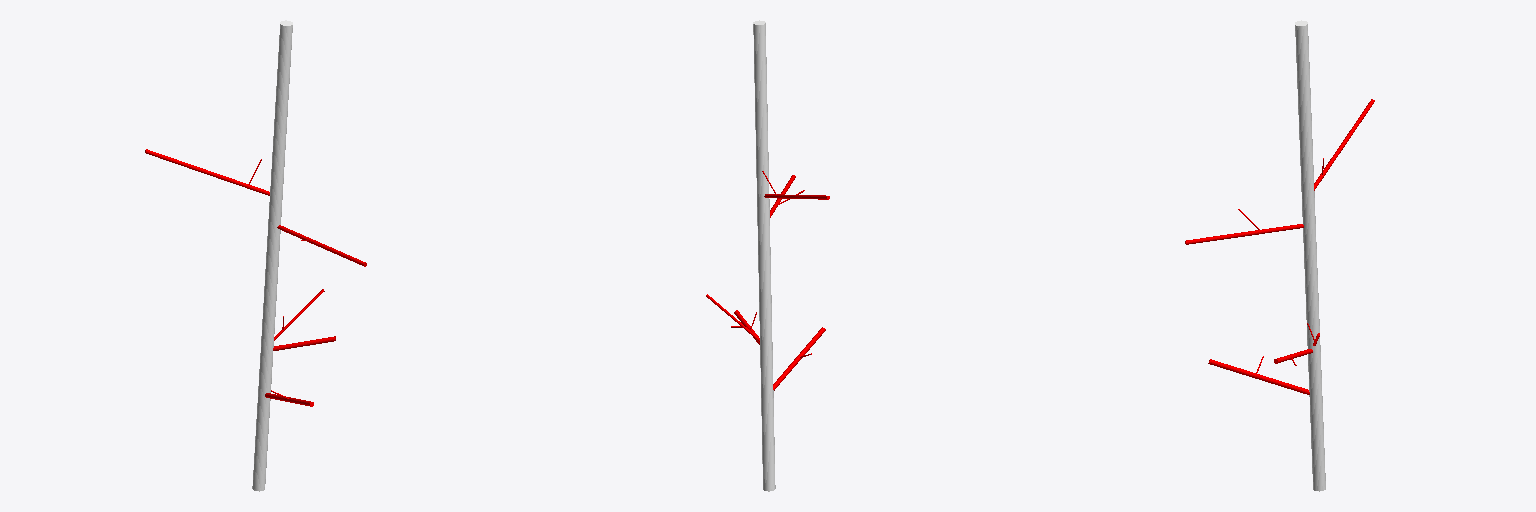
The robot description file, URDF, robot "tree_39.urdf":
<?xml version='1.0' encoding='UTF-8'?>
<robot name="tree_39.urdf">
  <link name="branch_0">
    <inertial>
      <origin xyz="0.0 0.0 0.0" rpy="0.0 -0.0 0.0"/>
      <mass value="0.1"/>
      <inertia ixx="0.001" ixy="0.0" ixz="0.0" iyy="0.001" iyz="0.0" izz="0.001"/>
    </inertial>
    <visual name="branch_0_visual">
      <geometry>
        <cylinder radius="0.10181048123434369" length="8.161811694612103"/>
      </geometry>
      <material name="branch_material"/>
      <origin xyz="0.17303586341867938 -0.14086591947236526 4.074801580111464" rpy="0.0 0.054702557082123036 -0.6832706086225947"/>
    </visual>
    <collision name="branch_0_collision">
      <geometry>
        <cylinder radius="0.10181048123434369" length="8.161811694612103"/>
      </geometry>
      <origin xyz="0.17303586341867938 -0.14086591947236526 4.074801580111464" rpy="0.0 0.054702557082123036 -0.6832706086225947"/>
    </collision>
  </link>
  <link name="branch_1">
    <inertial>
      <origin xyz="0.0 0.0 0.0" rpy="0.0 -0.0 0.0"/>
      <mass value="0.1"/>
      <inertia ixx="0.001" ixy="0.0" ixz="0.0" iyy="0.001" iyz="0.0" izz="0.001"/>
    </inertial>
    <visual name="branch_1_visual">
      <geometry>
        <cylinder radius="0.033954302815684935" length="2.215960192321416"/>
      </geometry>
      <material name="semantic_material"/>
      <origin xyz="0.0 0.0 0.0" rpy="0.0 -0.0 0.0"/>
    </visual>
    <collision name="branch_1_collision">
      <geometry>
        <cylinder radius="0.033954302815684935" length="2.215960192321416"/>
      </geometry>
      <origin xyz="0.0 0.0 0.0" rpy="0.0 -0.0 0.0"/>
    </collision>
  </link>
  <link name="branch_2">
    <inertial>
      <origin xyz="0.0 0.0 0.0" rpy="0.0 -0.0 0.0"/>
      <mass value="0.1"/>
      <inertia ixx="0.001" ixy="0.0" ixz="0.0" iyy="0.001" iyz="0.0" izz="0.001"/>
    </inertial>
    <visual name="branch_2_visual">
      <geometry>
        <cylinder radius="0.01" length="0.48393200322359187"/>
      </geometry>
      <material name="semantic_material"/>
      <origin xyz="0.0 0.0 0.0" rpy="0.0 -0.0 0.0"/>
    </visual>
    <collision name="branch_2_collision">
      <geometry>
        <cylinder radius="0.01" length="0.48393200322359187"/>
      </geometry>
      <origin xyz="0.0 0.0 0.0" rpy="0.0 -0.0 0.0"/>
    </collision>
  </link>
  <link name="branch_3">
    <inertial>
      <origin xyz="0.0 0.0 0.0" rpy="0.0 -0.0 0.0"/>
      <mass value="0.1"/>
      <inertia ixx="0.001" ixy="0.0" ixz="0.0" iyy="0.001" iyz="0.0" izz="0.001"/>
    </inertial>
    <visual name="branch_3_visual">
      <geometry>
        <cylinder radius="0.022712729342302947" length="1.2801849019979785"/>
      </geometry>
      <material name="semantic_material"/>
      <origin xyz="0.0 0.0 0.0" rpy="0.0 -0.0 0.0"/>
    </visual>
    <collision name="branch_3_collision">
      <geometry>
        <cylinder radius="0.022712729342302947" length="1.2801849019979785"/>
      </geometry>
      <origin xyz="0.0 0.0 0.0" rpy="0.0 -0.0 0.0"/>
    </collision>
  </link>
  <link name="branch_4">
    <inertial>
      <origin xyz="0.0 0.0 0.0" rpy="0.0 -0.0 0.0"/>
      <mass value="0.1"/>
      <inertia ixx="0.001" ixy="0.0" ixz="0.0" iyy="0.001" iyz="0.0" izz="0.001"/>
    </inertial>
    <visual name="branch_4_visual">
      <geometry>
        <cylinder radius="0.01" length="0.34515774997408455"/>
      </geometry>
      <material name="semantic_material"/>
      <origin xyz="0.0 0.0 0.0" rpy="0.0 -0.0 0.0"/>
    </visual>
    <collision name="branch_4_collision">
      <geometry>
        <cylinder radius="0.01" length="0.34515774997408455"/>
      </geometry>
      <origin xyz="0.0 0.0 0.0" rpy="0.0 -0.0 0.0"/>
    </collision>
  </link>
  <link name="branch_5">
    <inertial>
      <origin xyz="0.0 0.0 0.0" rpy="0.0 -0.0 0.0"/>
      <mass value="0.1"/>
      <inertia ixx="0.001" ixy="0.0" ixz="0.0" iyy="0.001" iyz="0.0" izz="0.001"/>
    </inertial>
    <visual name="branch_5_visual">
      <geometry>
        <cylinder radius="0.040252455766289615" length="1.7467516169432158"/>
      </geometry>
      <material name="semantic_material"/>
      <origin xyz="0.0 0.0 0.0" rpy="0.0 -0.0 0.0"/>
    </visual>
    <collision name="branch_5_collision">
      <geometry>
        <cylinder radius="0.040252455766289615" length="1.7467516169432158"/>
      </geometry>
      <origin xyz="0.0 0.0 0.0" rpy="0.0 -0.0 0.0"/>
    </collision>
  </link>
  <link name="branch_6">
    <inertial>
      <origin xyz="0.0 0.0 0.0" rpy="0.0 -0.0 0.0"/>
      <mass value="0.1"/>
      <inertia ixx="0.001" ixy="0.0" ixz="0.0" iyy="0.001" iyz="0.0" izz="0.001"/>
    </inertial>
    <visual name="branch_6_visual">
      <geometry>
        <cylinder radius="0.01123706866519181" length="0.37566203975257795"/>
      </geometry>
      <material name="semantic_material"/>
      <origin xyz="0.0 0.0 0.0" rpy="0.0 -0.0 0.0"/>
    </visual>
    <collision name="branch_6_collision">
      <geometry>
        <cylinder radius="0.01123706866519181" length="0.37566203975257795"/>
      </geometry>
      <origin xyz="0.0 0.0 0.0" rpy="0.0 -0.0 0.0"/>
    </collision>
  </link>
  <link name="branch_7">
    <inertial>
      <origin xyz="0.0 0.0 0.0" rpy="0.0 -0.0 0.0"/>
      <mass value="0.1"/>
      <inertia ixx="0.001" ixy="0.0" ixz="0.0" iyy="0.001" iyz="0.0" izz="0.001"/>
    </inertial>
    <visual name="branch_7_visual">
      <geometry>
        <cylinder radius="0.034611354768480054" length="2.0027317862319722"/>
      </geometry>
      <material name="semantic_material"/>
      <origin xyz="0.0 0.0 0.0" rpy="0.0 -0.0 0.0"/>
    </visual>
    <collision name="branch_7_collision">
      <geometry>
        <cylinder radius="0.034611354768480054" length="2.0027317862319722"/>
      </geometry>
      <origin xyz="0.0 0.0 0.0" rpy="0.0 -0.0 0.0"/>
    </collision>
  </link>
  <link name="branch_8">
    <inertial>
      <origin xyz="0.0 0.0 0.0" rpy="0.0 -0.0 0.0"/>
      <mass value="0.1"/>
      <inertia ixx="0.001" ixy="0.0" ixz="0.0" iyy="0.001" iyz="0.0" izz="0.001"/>
    </inertial>
    <visual name="branch_8_visual">
      <geometry>
        <cylinder radius="0.011894316364576552" length="0.5506055938574834"/>
      </geometry>
      <material name="semantic_material"/>
      <origin xyz="0.0 0.0 0.0" rpy="0.0 -0.0 0.0"/>
    </visual>
    <collision name="branch_8_collision">
      <geometry>
        <cylinder radius="0.011894316364576552" length="0.5506055938574834"/>
      </geometry>
      <origin xyz="0.0 0.0 0.0" rpy="0.0 -0.0 0.0"/>
    </collision>
  </link>
  <link name="branch_9">
    <inertial>
      <origin xyz="0.0 0.0 0.0" rpy="0.0 -0.0 0.0"/>
      <mass value="0.1"/>
      <inertia ixx="0.001" ixy="0.0" ixz="0.0" iyy="0.001" iyz="0.0" izz="0.001"/>
    </inertial>
    <visual name="branch_9_visual">
      <geometry>
        <cylinder radius="0.03855678804373867" length="1.109763464850223"/>
      </geometry>
      <material name="semantic_material"/>
      <origin xyz="0.0 0.0 0.0" rpy="0.0 -0.0 0.0"/>
    </visual>
    <collision name="branch_9_collision">
      <geometry>
        <cylinder radius="0.03855678804373867" length="1.109763464850223"/>
      </geometry>
      <origin xyz="0.0 0.0 0.0" rpy="0.0 -0.0 0.0"/>
    </collision>
  </link>
  <link name="branch_10">
    <inertial>
      <origin xyz="0.0 0.0 0.0" rpy="0.0 -0.0 0.0"/>
      <mass value="0.1"/>
      <inertia ixx="0.001" ixy="0.0" ixz="0.0" iyy="0.001" iyz="0.0" izz="0.001"/>
    </inertial>
    <visual name="branch_10_visual">
      <geometry>
        <cylinder radius="0.011057130808181598" length="0.28630392946467786"/>
      </geometry>
      <material name="semantic_material"/>
      <origin xyz="0.0 0.0 0.0" rpy="0.0 -0.0 0.0"/>
    </visual>
    <collision name="branch_10_collision">
      <geometry>
        <cylinder radius="0.011057130808181598" length="0.28630392946467786"/>
      </geometry>
      <origin xyz="0.0 0.0 0.0" rpy="0.0 -0.0 0.0"/>
    </collision>
  </link>
  <joint name="joint_0_1" type="fixed">
    <parent link="branch_0"/>
    <child link="branch_1"/>
    <axis xyz="1. 0. 0."/>
    <origin xyz="-0.6844523401673014 0.3272005274773889 5.521874380626739" rpy="-0.02565552666191032 1.2015627618712148 2.604293566960639"/>
  </joint>
  <joint name="joint_0_3" type="fixed">
    <parent link="branch_0"/>
    <child link="branch_3"/>
    <axis xyz="1. 0. 0."/>
    <origin xyz="0.6429094323631293 -0.04914471454989075 2.8456370595919886" rpy="0.0707368591347458 0.9968324783042901 0.1534486276899511"/>
  </joint>
  <joint name="joint_0_5" type="fixed">
    <parent link="branch_0"/>
    <child link="branch_5"/>
    <axis xyz="1. 0. 0."/>
    <origin xyz="0.02317545656799812 -0.8880595002117673 1.9082256736760117" rpy="-0.14696130876912117 1.2602830305043946 -1.7810852369508776"/>
  </joint>
  <joint name="joint_0_7" type="fixed">
    <parent link="branch_0"/>
    <child link="branch_7"/>
    <axis xyz="1. 0. 0."/>
    <origin xyz="0.4718343813747004 -1.1220352895156491 4.5947468216779646" rpy="-2.224798575638277 1.5314075337610034 2.766974310812182"/>
  </joint>
  <joint name="joint_0_9" type="fixed">
    <parent link="branch_0"/>
    <child link="branch_9"/>
    <axis xyz="1. 0. 0."/>
    <origin xyz="0.5571993372936858 -0.38237382550647486 2.541903000843146" rpy="0.027720495410923637 1.3662096048514623 -0.5531075442148199"/>
  </joint>
  <joint name="joint_1_2" type="fixed">
    <parent link="branch_0"/>
    <child link="branch_2"/>
    <axis xyz="1. 0. 0."/>
    <origin xyz="-0.042964922859402344 0.05384720080066231 5.498720112363245" rpy="-0.33143828730075975 0.4784152933374 -0.5499266125868416"/>
  </joint>
  <joint name="joint_3_4" type="fixed">
    <parent link="branch_0"/>
    <child link="branch_4"/>
    <axis xyz="1. 0. 0."/>
    <origin xyz="0.3730359198786577 -0.12813730059619954 2.848856916889953" rpy="-0.3264388241772034 0.25733486371168246 -2.9465297841552958"/>
  </joint>
  <joint name="joint_5_6" type="fixed">
    <parent link="branch_0"/>
    <child link="branch_6"/>
    <axis xyz="1. 0. 0."/>
    <origin xyz="-0.13429172471185585 -0.9367821420281554 2.0365281374202127" rpy="-1.0054919254029941 0.3658606204771488 1.419935659339262"/>
  </joint>
  <joint name="joint_7_8" type="fixed">
    <parent link="branch_0"/>
    <child link="branch_8"/>
    <axis xyz="1. 0. 0."/>
    <origin xyz="0.23341352353099398 -1.0818875019536616 4.712339660989936" rpy="-1.139260555254636 -0.23075587909155992 2.265408546675241"/>
  </joint>
  <joint name="joint_9_10" type="fixed">
    <parent link="branch_0"/>
    <child link="branch_10"/>
    <axis xyz="1. 0. 0."/>
    <origin xyz="0.7926738317177336 -0.4070528523200945 2.552174872348383" rpy="1.6766373510652344 0.33917466187968415 1.8928622482308435"/>
  </joint>
  <material name="branch_material">
    <color rgba="1. 1. 1. 1."/>
  </material>
  <material name="semantic_material">
    <color rgba="1. 0. 0. 1."/>
  </material>
</robot>

--- Render facts (derived) ---
The picture shows the robot from 3 angles, left to right: view 1: azimuth 30°, elevation 25°; view 2: azimuth 150°, elevation 25°; view 3: azimuth 270°, elevation 25°; orthographic projection.
Model tree_39.urdf with 11 links and 10 joints (10 fixed), rooted at branch_0, posed every joint at zero.
Visible links, largest first — view 1: branch_0, branch_1; view 2: branch_0; view 3: branch_0, branch_5, branch_7.
Boxes of the visible links, x1,y1,x2,y2 form: branch_0: [252, 20, 292, 491]; branch_1: [145, 149, 269, 195]; branch_0: [753, 20, 775, 491]; branch_0: [1295, 20, 1325, 491]; branch_5: [1208, 359, 1309, 394]; branch_7: [1185, 224, 1303, 244].
Bounding box of the posed robot: 2.8 × 2.96 × 8.16 m (x, y, z).
Geometry: primitives only (box / cylinder / sphere), no mesh files.
